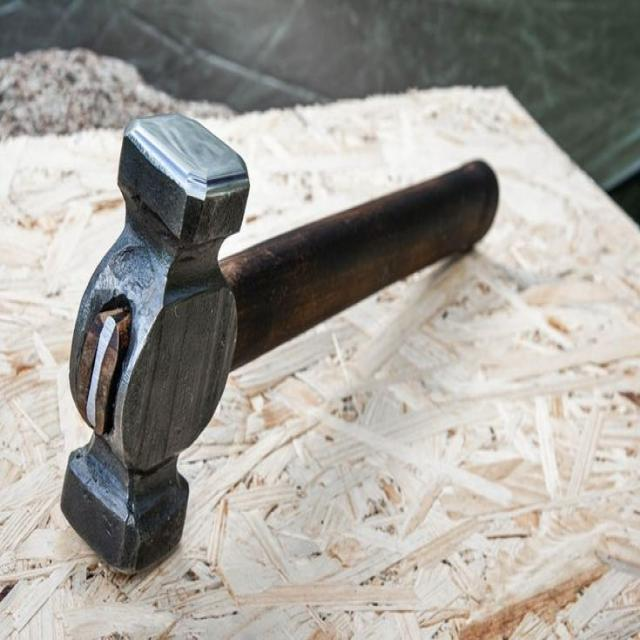hammer: (55, 100, 505, 584)
